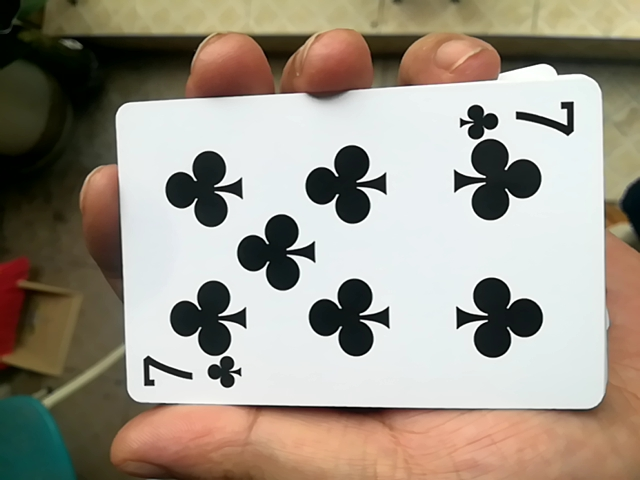mh 7: (95, 91, 612, 424)
